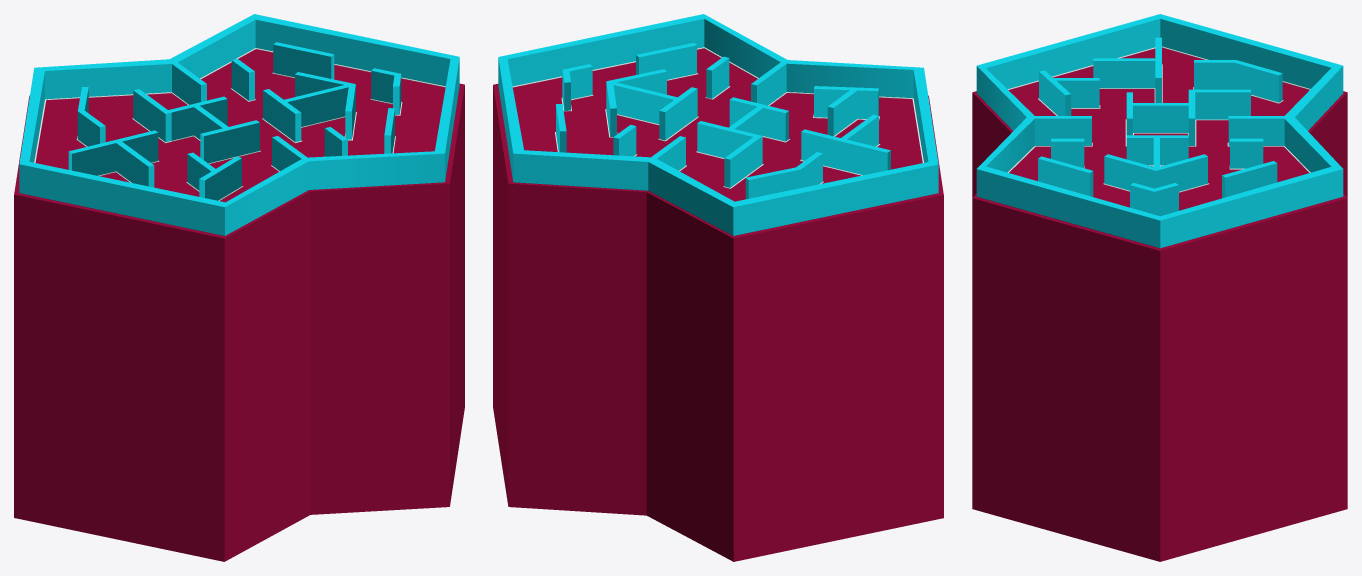
File: Level_22.FBX
The picture shows the model from 3 angles, left to right: view 1: azimuth 30°, elevation 25°; view 2: azimuth 150°, elevation 25°; view 3: azimuth 270°, elevation 25°; orthographic projection. The views are drawn at different scales.
Visible parts, largest first — view 1: Level_22; view 2: Level_22; view 3: Level_22.
Boxes of the visible parts, x1,y1,x2,y2 form: Level_22: [14, 14, 464, 561]; Level_22: [493, 14, 943, 561]; Level_22: [972, 14, 1347, 561].
Bounding box in the file's own units: 254 × 190 × 191.
